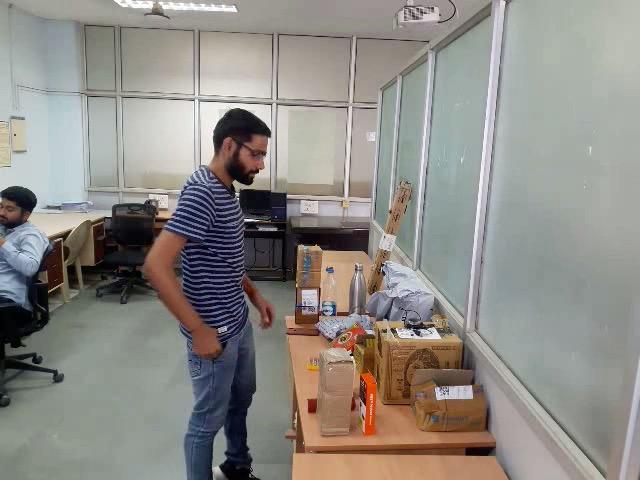shoplifting: (111, 269, 286, 413)
